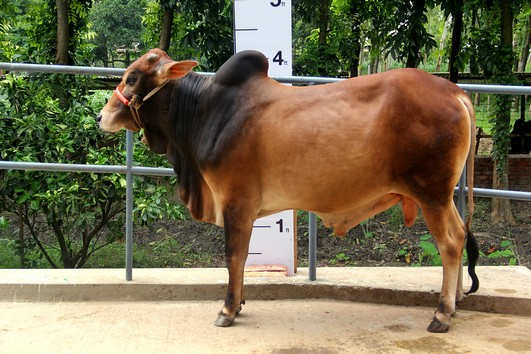cow: (92, 41, 485, 341)
